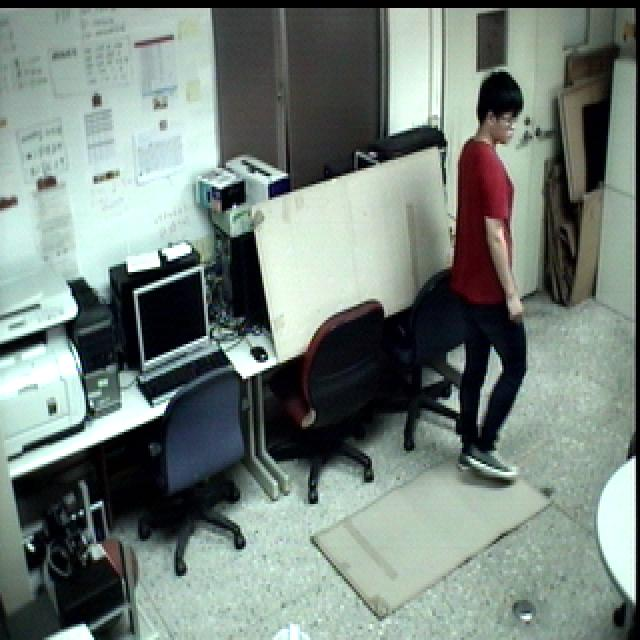stand: (444, 63, 539, 488)
